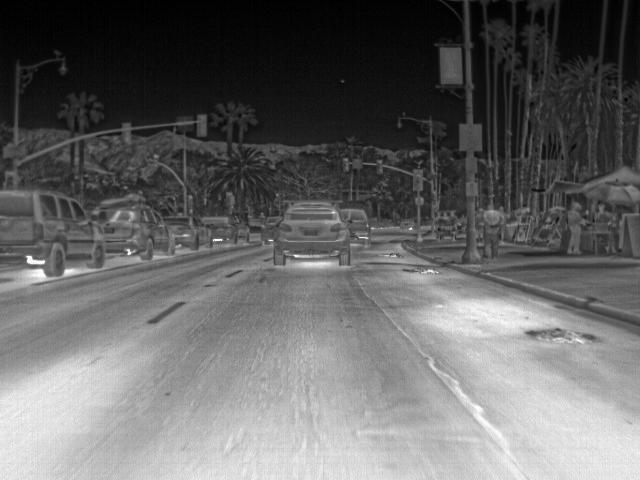car: (0, 186, 108, 274), (273, 201, 354, 266), (90, 205, 175, 261), (161, 215, 214, 251), (197, 214, 251, 244), (338, 206, 369, 246), (262, 213, 286, 244)
person: (481, 204, 502, 260), (565, 200, 586, 255)
